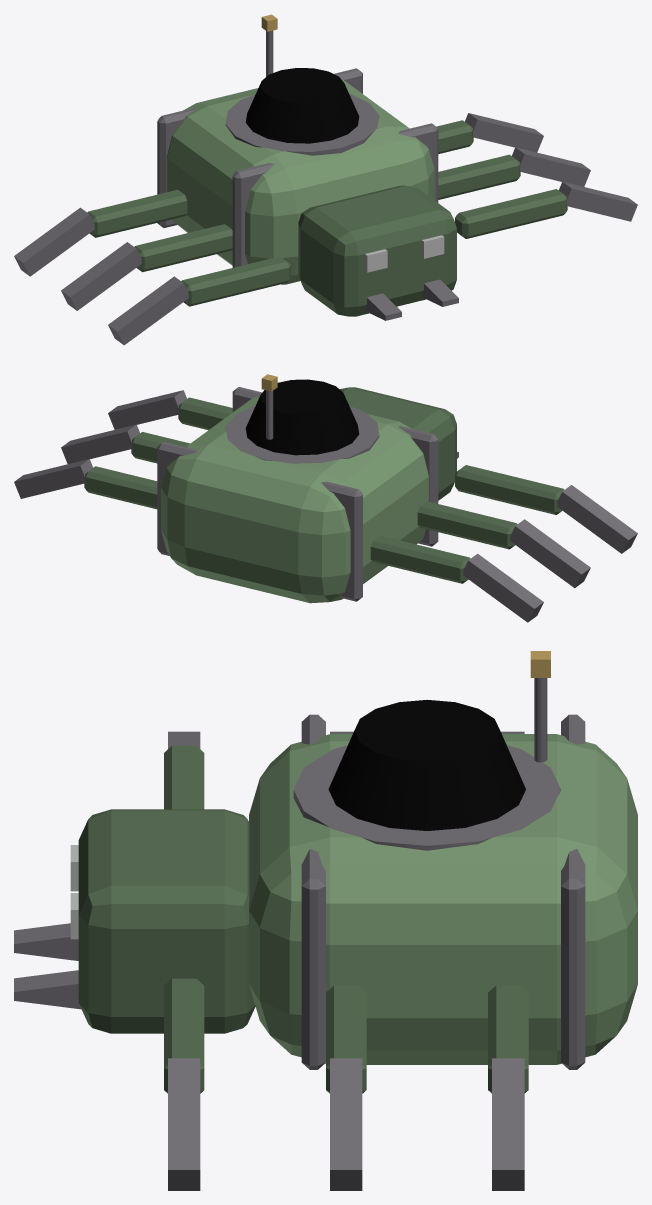
Rendered from mite.glb.
3 views of the same model, one above another, from view 1: azimuth 30°, elevation 25°; view 2: azimuth 150°, elevation 25°; view 3: azimuth 270°, elevation 25° (orthographic). The views are drawn at different scales.
Parts seen in each view (by area): view 1: mite.001, mite*0.5, glow*0.3, mite*0.001, gunmetal, mite*0.002, mite*0.007, mite*0.004, gunmetal.001, mite*0.003, gunmetal.007, gunmetal.011 (+9 smaller); view 2: mite.001, glow*0.3, mite*0.5, gunmetal.002, mite*0.002, gunmetal, mite*0.007, mite*0.004, gunmetal.011, gunmetal.007, gunmetal.009, mite*0.006 (+7 smaller); view 3: mite.001, mite*0.5, glow*0.3, gunmetal, gunmetal.001, gunmetal.002, gunmetal.006, gunmetal.008, gunmetal.010, mite*0.001, mite*0.003, mite*0.006 (+4 smaller).
Part boxes in pixels (x1,y1,x2,y2): mite.001: [166, 78, 434, 284]; mite*0.5: [298, 185, 456, 316]; glow*0.3: [245, 68, 359, 143]; mite*0.001: [455, 189, 567, 238]; gunmetal: [225, 93, 379, 155]; mite*0.002: [181, 256, 290, 306]; mite*0.007: [87, 189, 187, 237]; mite*0.004: [134, 224, 232, 272]; gunmetal.001: [232, 123, 438, 267]; mite*0.003: [438, 154, 520, 199]; gunmetal.007: [108, 276, 188, 345]; gunmetal.011: [14, 207, 94, 276]; mite.001: [161, 396, 428, 603]; glow*0.3: [245, 379, 359, 455]; mite*0.5: [339, 387, 456, 500]; gunmetal.002: [157, 442, 362, 601]; mite*0.002: [455, 465, 564, 514]; gunmetal: [225, 405, 379, 463]; mite*0.007: [370, 535, 470, 583]; mite*0.004: [417, 501, 517, 549]; gunmetal.011: [463, 553, 543, 622]; gunmetal.007: [557, 485, 637, 553]; gunmetal.009: [510, 519, 590, 588]; mite*0.006: [84, 466, 157, 509]; mite.001: [249, 734, 637, 1064]; mite*0.5: [78, 809, 255, 1033]; glow*0.3: [328, 699, 525, 830]; gunmetal: [293, 745, 560, 850]; gunmetal.001: [301, 714, 325, 1069]; gunmetal.002: [561, 714, 585, 1069]; gunmetal.006: [168, 1058, 200, 1190]; gunmetal.008: [330, 1058, 362, 1190]; gunmetal.010: [492, 1058, 524, 1190]; mite*0.001: [164, 978, 204, 1093]; mite*0.003: [326, 985, 366, 1093]; mite*0.006: [488, 985, 528, 1093].
Size of the model in its own units: 1.28 by 0.4825 by 0.77.
